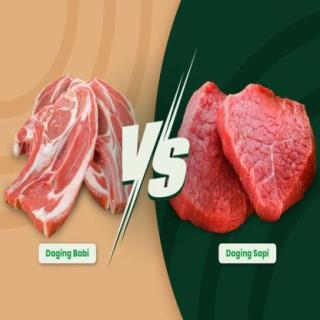Daging Sapi: (222, 84, 318, 220), (173, 83, 256, 231)
